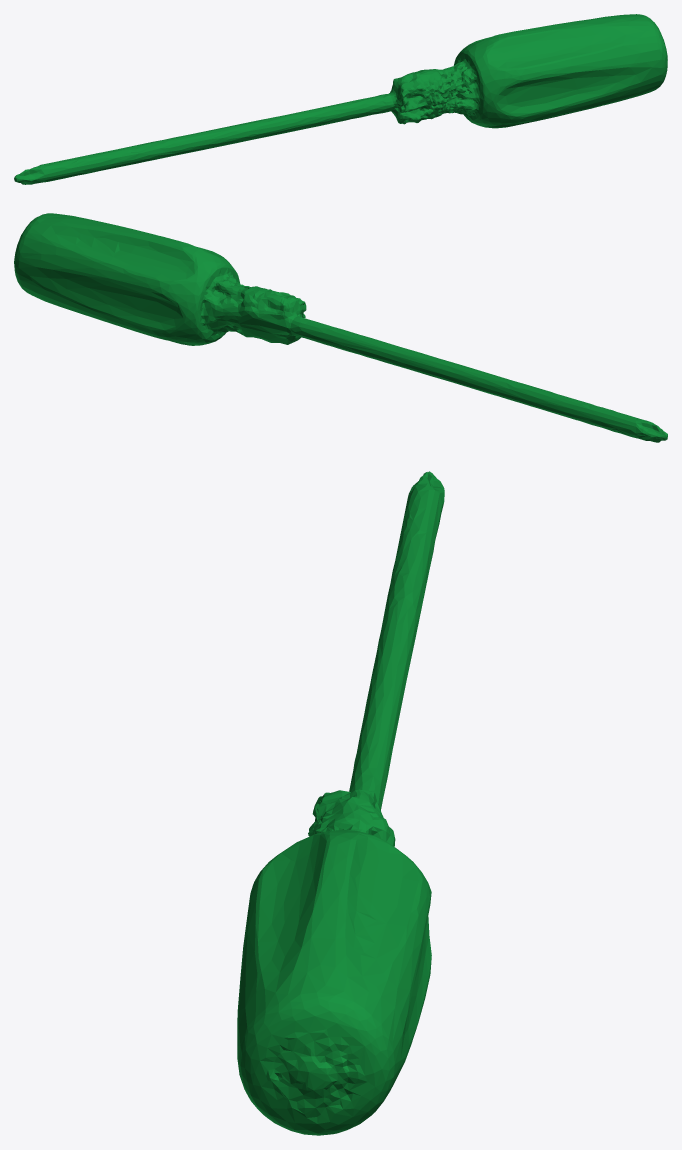
File: screwdriver_model_m.obj
The picture shows the model from 3 angles, top to bottom: view 1: azimuth 30°, elevation 25°; view 2: azimuth 150°, elevation 25°; view 3: azimuth 270°, elevation 25°; orthographic projection. The views are drawn at different scales.
Visible parts, largest first — view 1: model.obj; view 2: model.obj; view 3: model.obj.
Part boxes in pixels (x1,y1,x2,y2): model.obj: [14, 14, 667, 184]; model.obj: [14, 213, 667, 442]; model.obj: [237, 471, 444, 1135].
Size of the model in its own units: 0.1302 by 0.0182 by 0.0189.
